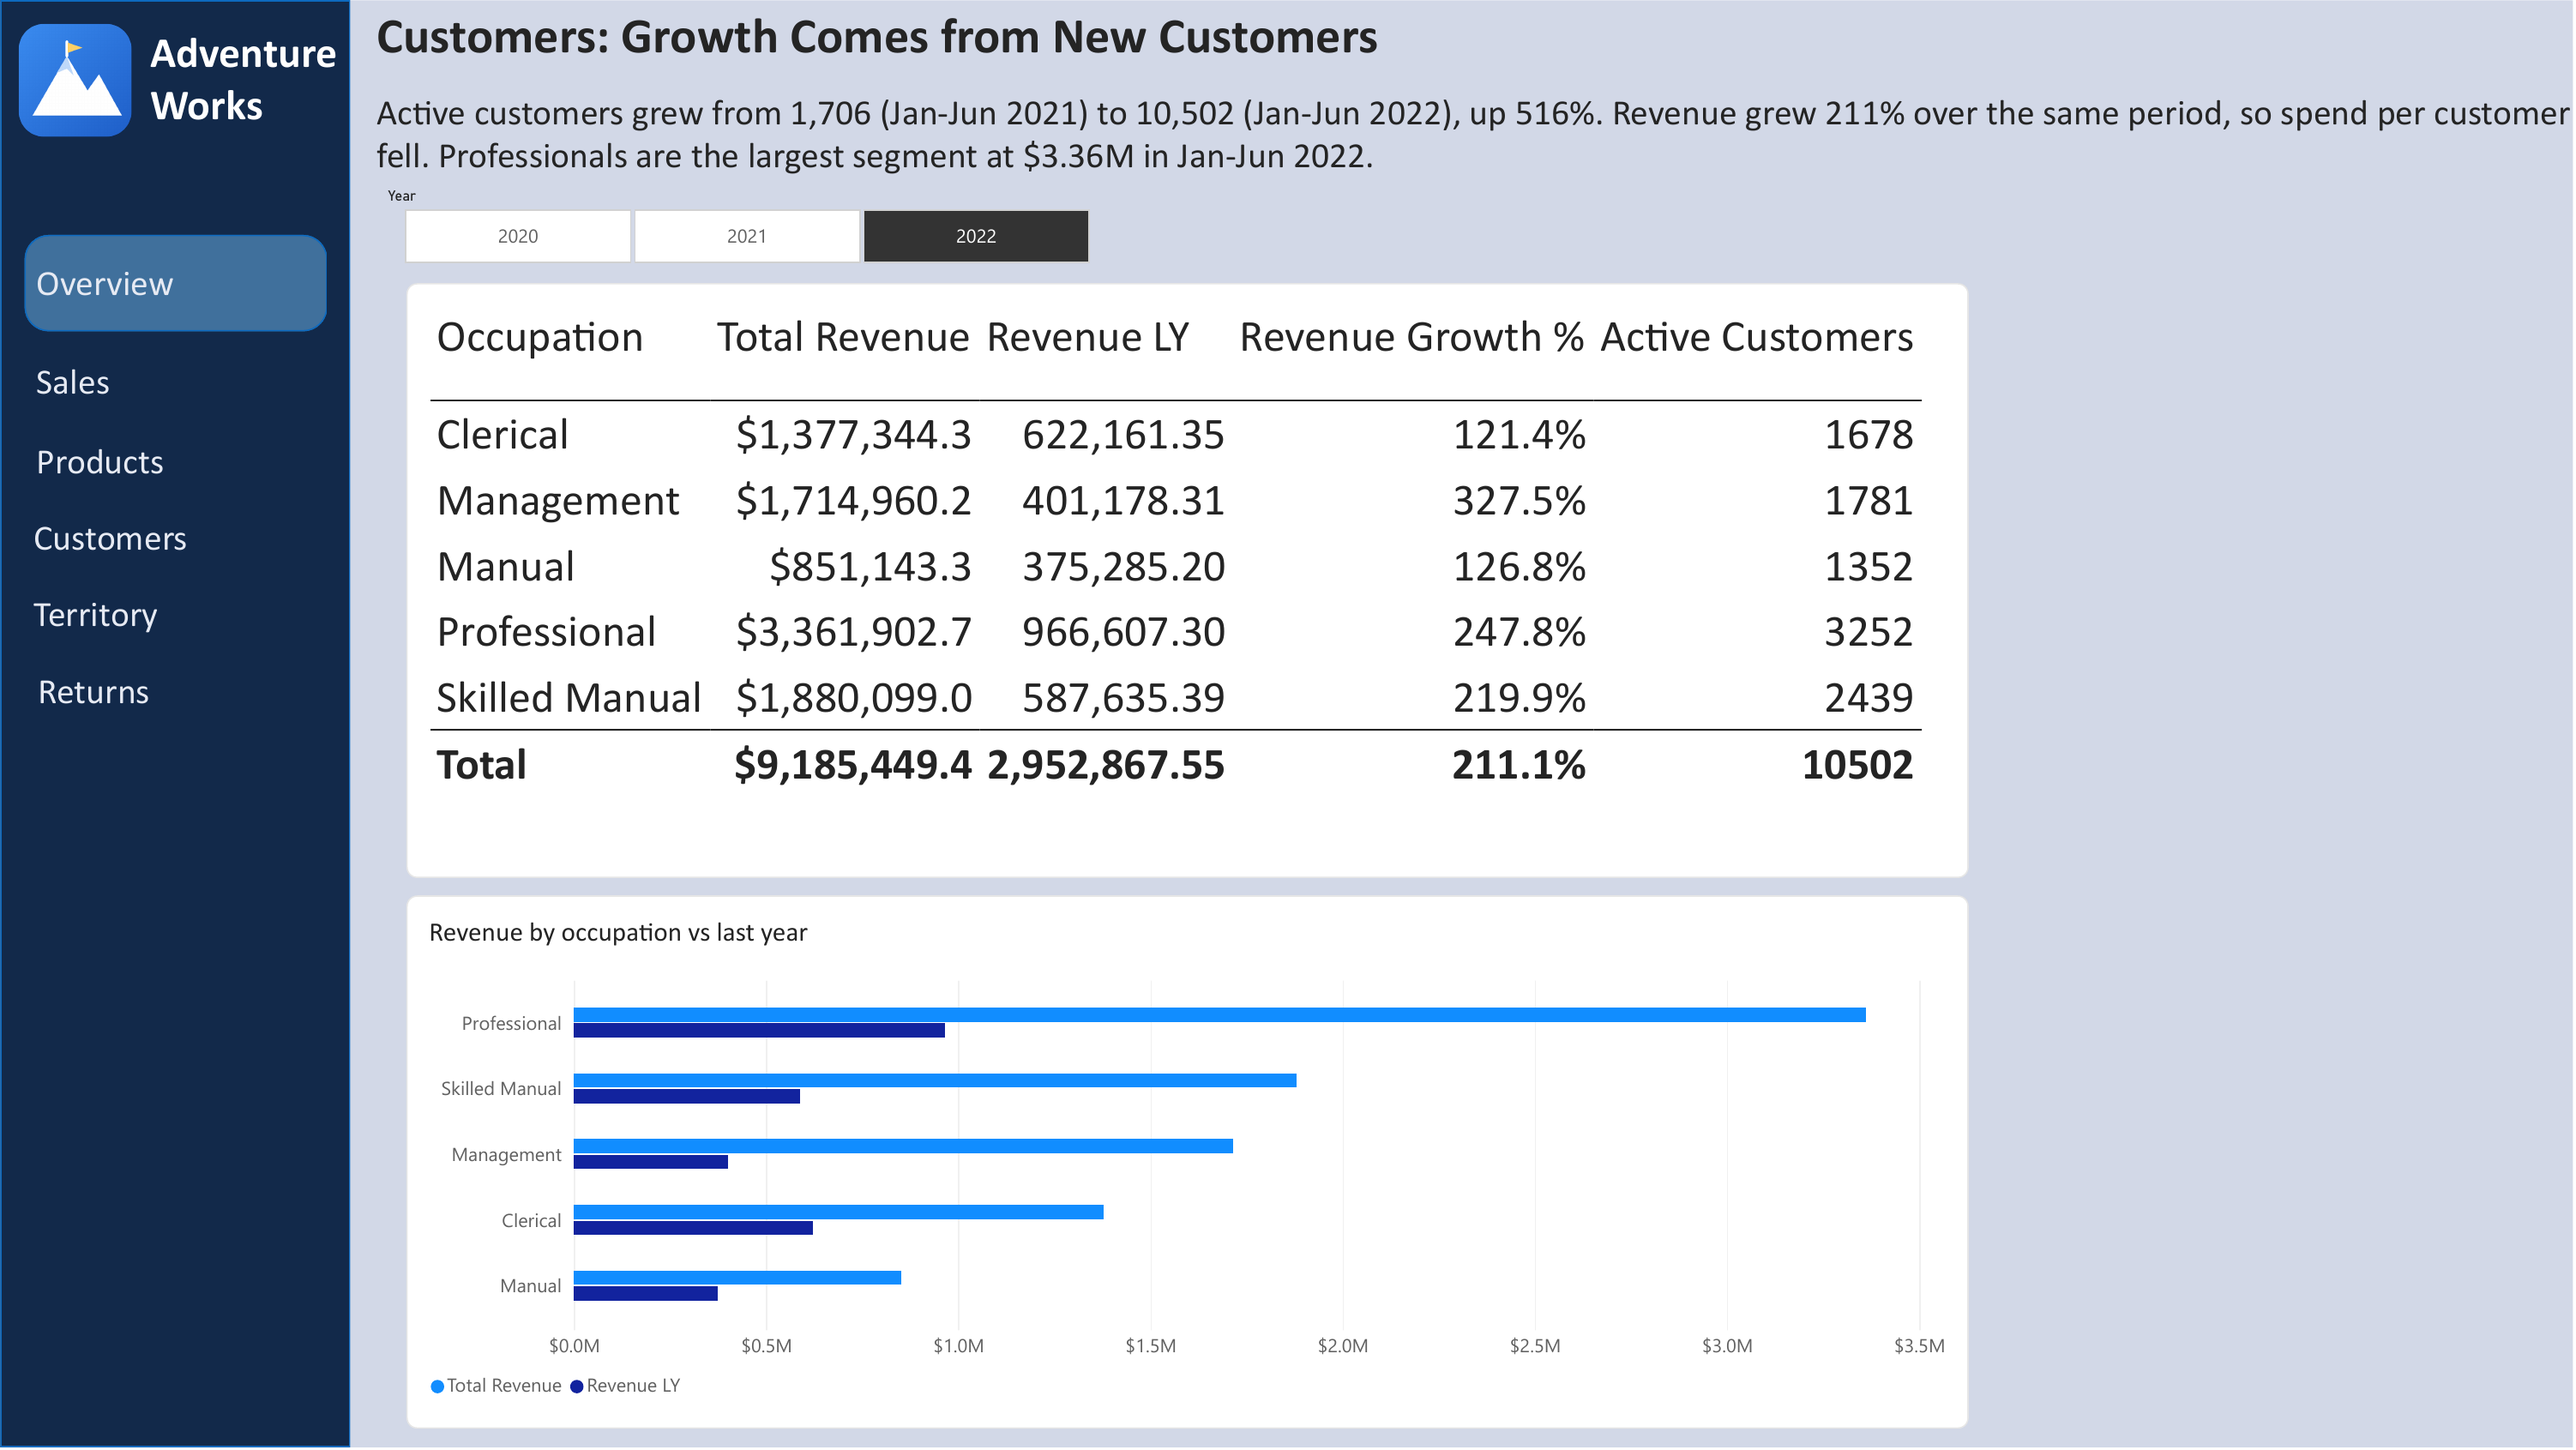

This screenshot's page, from the dashboard's own definition file:
{"tool":"powerbi","page":{"name":"Customers","canvas":[1920,1080],"ordinal":3},"visuals":[{"type":"slicer","fields":{"Values":["dim_Calendar.Year"]},"box":[280.8,139.5,551.1,58.6],"z":0},{"type":"tableEx","fields":{"Values":["dim_Customer.Occupation","fact_Sales.Total Revenue","fact_Sales.Revenue LY","fact_Sales.Revenue Growth %","fact_Sales.Active Customers"]},"box":[303.5,211,1165.8,443.9],"z":1000},{"type":"clusteredBarChart","title":"Revenue by occupation vs last year","fields":{"Category":["dim_Customer.Occupation"],"Y":["fact_Sales.Total Revenue","fact_Sales.Revenue LY"]},"box":[303.5,668,1165.1,397.7],"z":2000},{"type":"textbox","box":[280.8,3.5,1639.5,146.5],"z":3000},{"type":"shape","box":[0,0,261.1,1080],"z":3001},{"type":"textbox","box":[112,20,253,150],"z":3002},{"type":"image","box":[12,16,86.7,86.7],"z":3003},{"type":"shape","box":[17.7,174.6,226.5,72.9],"z":3004},{"type":"textbox","box":[26.9,194.9,301,63.4],"z":3005},{"type":"textbox","box":[26.9,269.3,301,36.4],"z":3006},{"type":"textbox","box":[25.3,442,196.4,33.3],"z":3007},{"type":"textbox","box":[25.3,385,213.9,34.9],"z":3008},{"type":"textbox","box":[26.9,327.9,299.4,42.8],"z":3009},{"type":"textbox","box":[28.3,500,102.5,32.5],"z":3010},{"type":"actionButton","box":[23.3,265.8,69.2,40],"z":3011},{"type":"actionButton","box":[25,328.3,107.5,42.5],"z":3012},{"type":"actionButton","box":[25,389.2,118.3,40],"z":3013},{"type":"actionButton","box":[25,438.3,99.2,40],"z":3014},{"type":"actionButton","box":[26.7,490,100,50],"z":3015},{"type":"actionButton","box":[18.4,170.8,202.7,77],"z":3016}]}

Visuals, with their boxes on the page's 1920x1080 design canvas (x1, y1, x2, y2). These are canvas units, not pixel positions in the 2576x1450 screenshot, which may show the page scaled, cropped or inside an application window:
slicer - dim_Calendar.Year: left=281, top=140, right=832, bottom=198
tableEx - dim_Customer.Occupation x fact_Sales.Total Revenue: left=304, top=211, right=1469, bottom=655
"Revenue by occupation vs last year" clusteredBarChart: left=304, top=668, right=1469, bottom=1066
textbox: left=281, top=4, right=1920, bottom=150
shape: left=0, top=0, right=261, bottom=1080
textbox: left=112, top=20, right=365, bottom=170
image: left=12, top=16, right=99, bottom=103
shape: left=18, top=175, right=244, bottom=248
textbox: left=27, top=195, right=328, bottom=258
textbox: left=27, top=269, right=328, bottom=306
textbox: left=25, top=442, right=222, bottom=475
textbox: left=25, top=385, right=239, bottom=420
textbox: left=27, top=328, right=326, bottom=371
textbox: left=28, top=500, right=131, bottom=532
actionButton: left=23, top=266, right=92, bottom=306
actionButton: left=25, top=328, right=132, bottom=371
actionButton: left=25, top=389, right=143, bottom=429
actionButton: left=25, top=438, right=124, bottom=478
actionButton: left=27, top=490, right=127, bottom=540
actionButton: left=18, top=171, right=221, bottom=248
